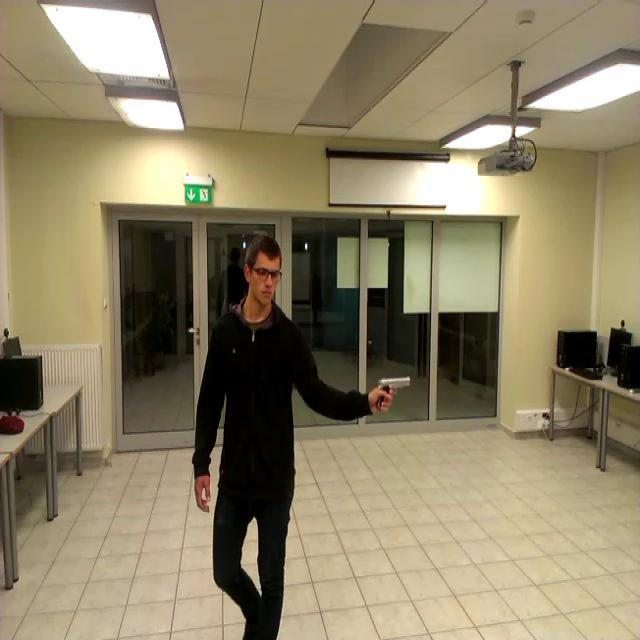weapon: (376, 378, 412, 410)
